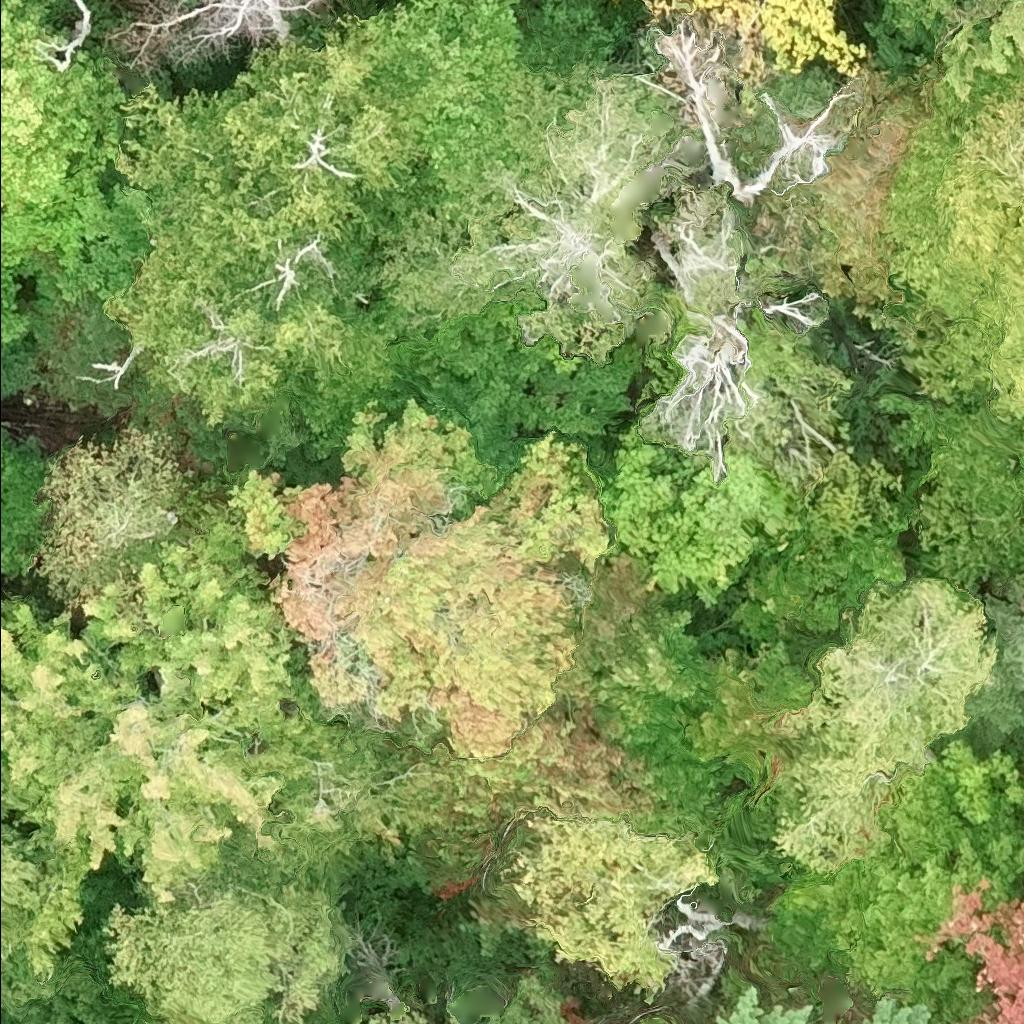crown: (229, 402, 610, 758), (0, 504, 329, 902), (373, 584, 772, 845), (110, 85, 390, 420), (390, 73, 683, 355), (786, 0, 1023, 303), (756, 579, 998, 875), (765, 746, 1023, 1023), (872, 72, 1023, 437), (213, 14, 428, 224), (372, 0, 573, 219), (498, 804, 714, 1000), (0, 0, 125, 264), (107, 888, 340, 1023), (616, 442, 797, 605), (37, 427, 199, 605), (884, 395, 1023, 599), (619, 0, 868, 75), (123, 0, 324, 69), (929, 892, 1023, 1023), (0, 430, 53, 575), (0, 825, 41, 971), (483, 972, 564, 1023), (718, 982, 815, 1023), (979, 606, 1023, 696), (970, 678, 1023, 740), (864, 999, 929, 1023), (371, 1007, 431, 1023), (447, 1011, 464, 1023)
